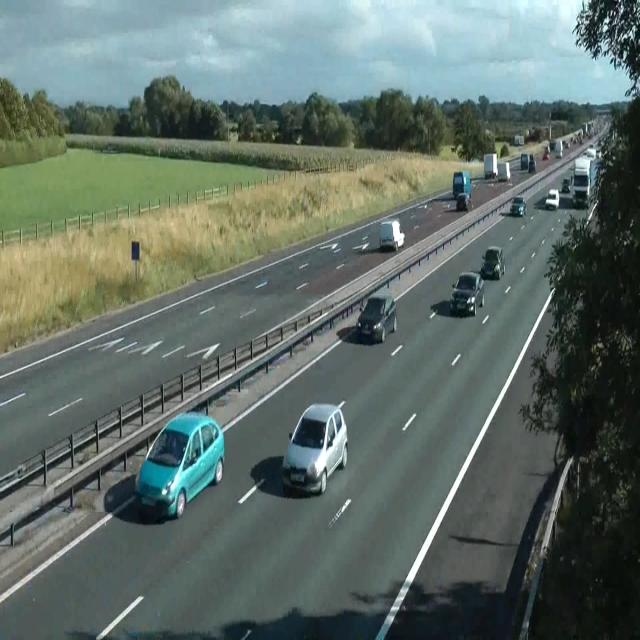bus: (580, 200, 602, 241), (510, 195, 526, 216), (545, 188, 559, 210), (456, 192, 470, 211), (584, 148, 596, 159), (562, 178, 570, 192), (331, 242, 341, 253), (542, 147, 550, 160)
jeep: (134, 410, 225, 520), (281, 399, 348, 495), (356, 292, 397, 343), (449, 270, 484, 316), (379, 218, 405, 250), (480, 245, 504, 279)
minibus: (572, 155, 600, 208), (452, 170, 472, 198), (483, 153, 497, 179), (520, 153, 536, 172), (497, 161, 510, 180), (555, 139, 563, 157), (514, 134, 524, 146)
